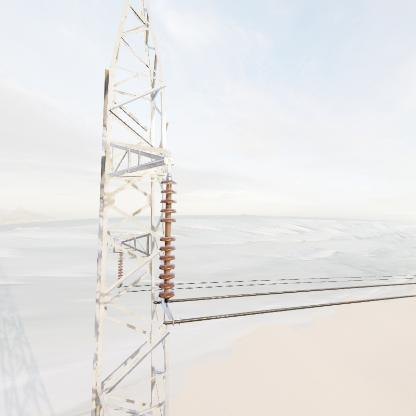insulator: (157, 176, 179, 303)
